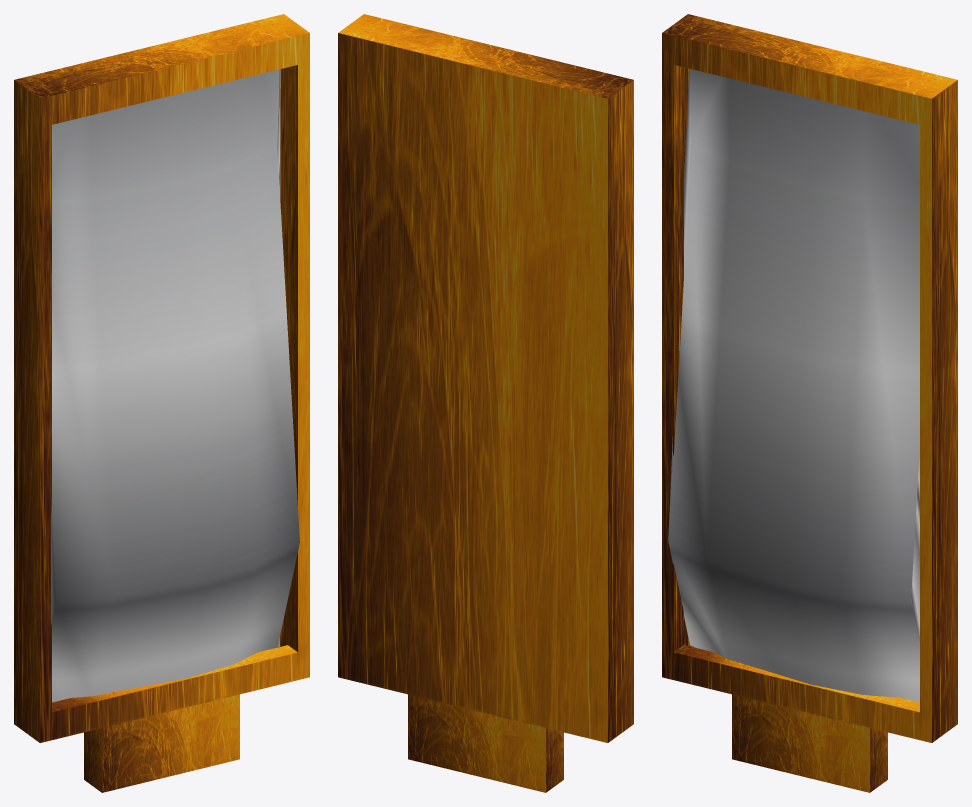
The model's file is mirror.FBX.
3 views of the same model, side by side, from view 1: azimuth 30°, elevation 25°; view 2: azimuth 150°, elevation 25°; view 3: azimuth 330°, elevation 25° (orthographic).
Parts seen in each view (by area): view 1: Box004, Box002, Box001; view 2: Box002, Box001; view 3: Box004, Box002, Box001.
Part boxes in pixels (<box>): Box004: <box>51,69,299,702</box>; Box002: <box>14,14,309,742</box>; Box001: <box>84,694,239,792</box>; Box002: <box>338,14,633,742</box>; Box001: <box>408,694,563,792</box>; Box004: <box>668,68,919,702</box>; Box002: <box>662,14,957,742</box>; Box001: <box>732,694,887,792</box>.
Bounding box in the file's own units: 49.39 × 125 × 14.46.
Materials: 2 (2 with a texture image).
